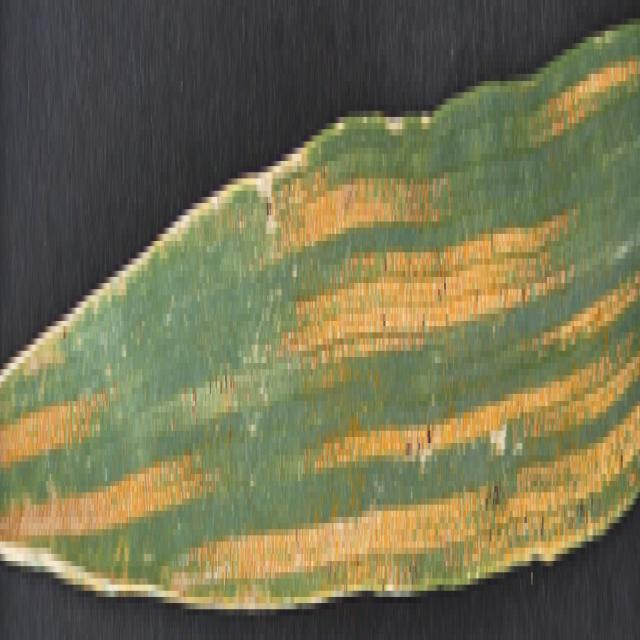leaf rust: (0, 55, 640, 633)
